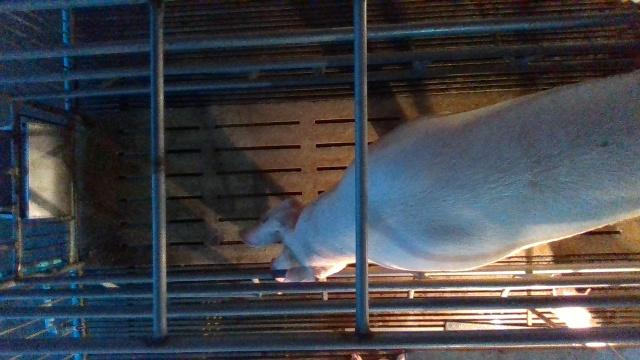piglet: (551, 274, 607, 346)
sow-stand: (236, 72, 640, 283)
